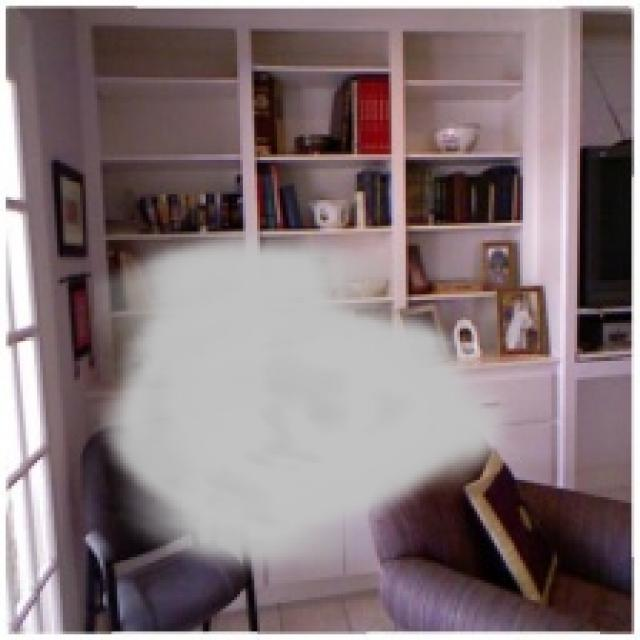smoke: (94, 228, 517, 583)
